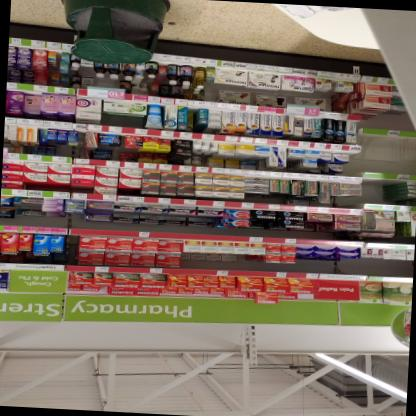empty_space: (362, 134, 403, 173), (382, 179, 407, 205), (363, 178, 384, 204), (404, 136, 416, 174)
